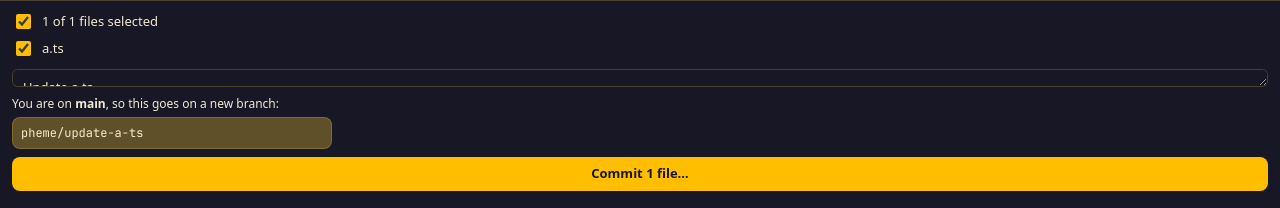
Test: CommitBox › on main it asks for a new branch (pre-filled) and sends it
Later steps or results of the test are not shown.
Expected: the field named "New branch name" holds "pheme/update-a-ts", [12, 117, 332, 149]
Click the button "Commit 1 file…" at (640, 174), box [12, 157, 1268, 190]
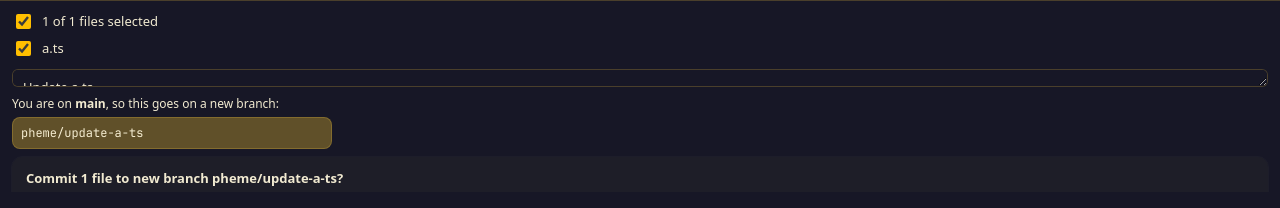
Expected: the element named "Confirm commit" shows "new branch pheme/update-a-ts", [112, 169, 337, 187]
